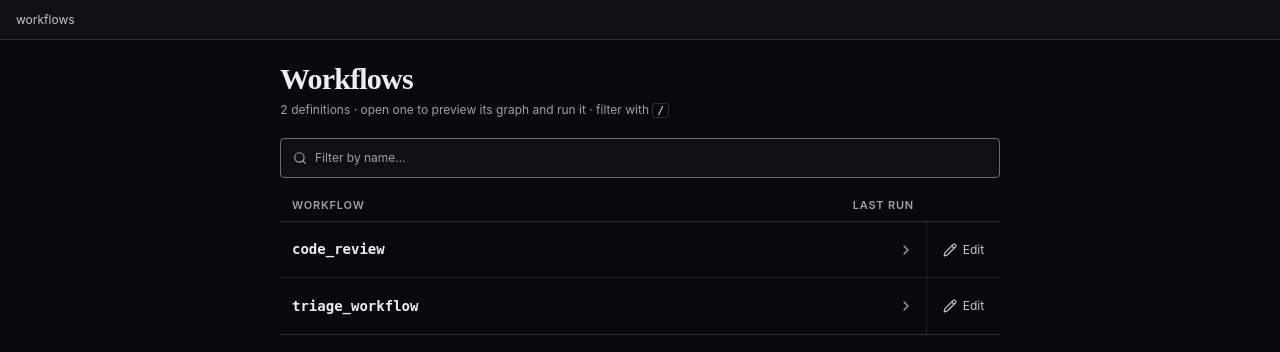
Test case: WorkflowsPage › filters workflows by search query
expect the text "code_review" is shown: met, box [292,241,385,257]
expect the text "triage_workflow" is shown: met, box [292,298,418,314]
Type "triage" into the field with placeholder "Filter by name…" at x=651, y=158, box [315,139,987,177]
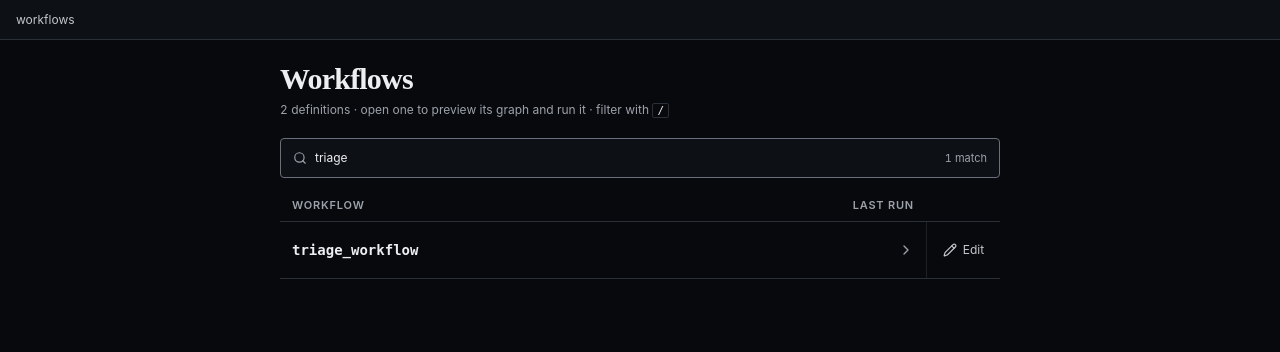
expect the text "triage_workflow" is shown: met, box [292,242,418,258]
expect the link "code_review" is gone: met
